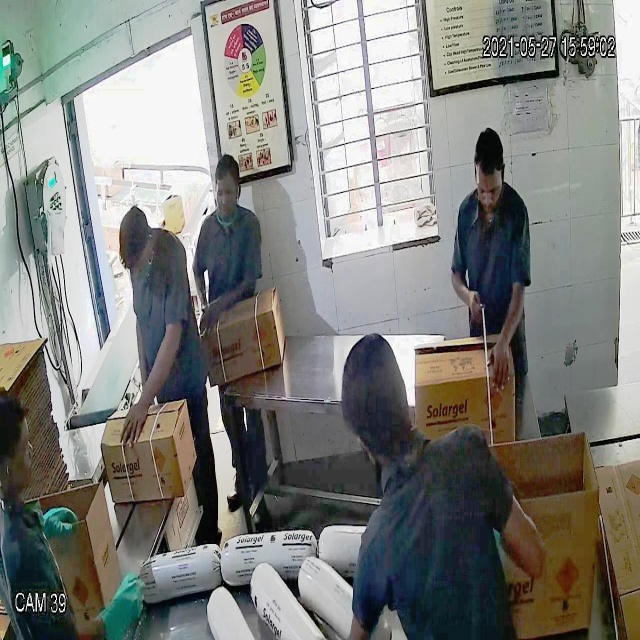Sin_gafas: (472, 171, 507, 204)
